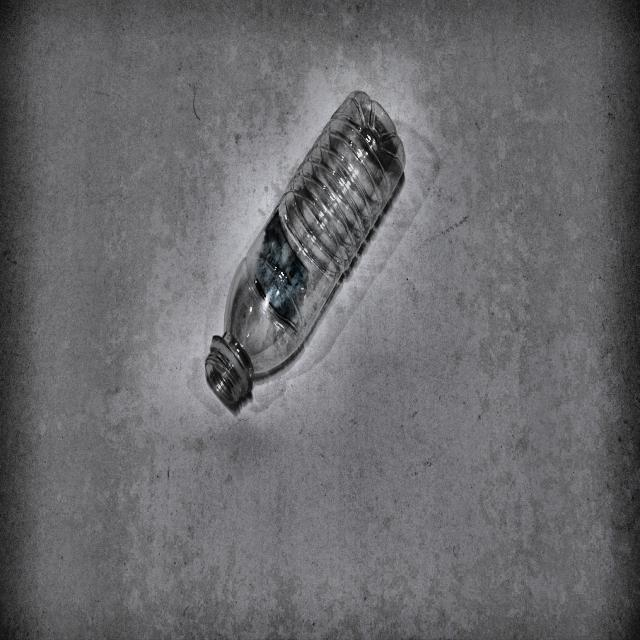Bottles: (204, 79, 412, 413)
